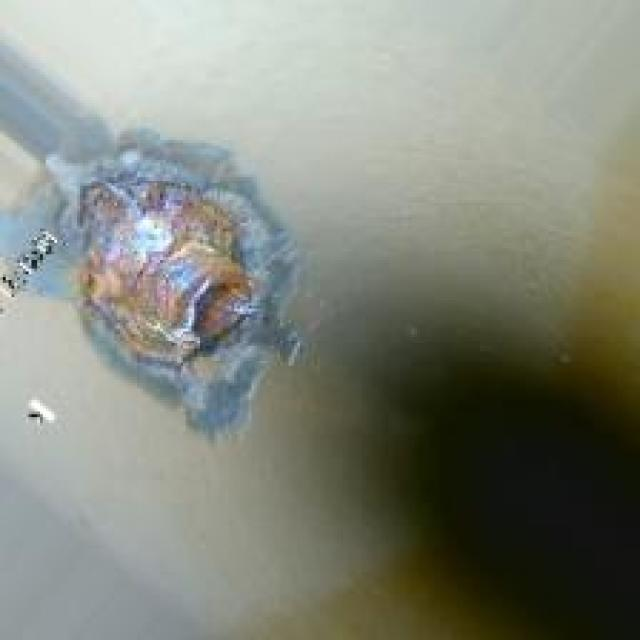ferrule: (80, 174, 274, 394)
